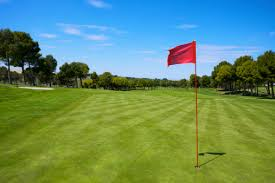Flag: (167, 40, 196, 65)
